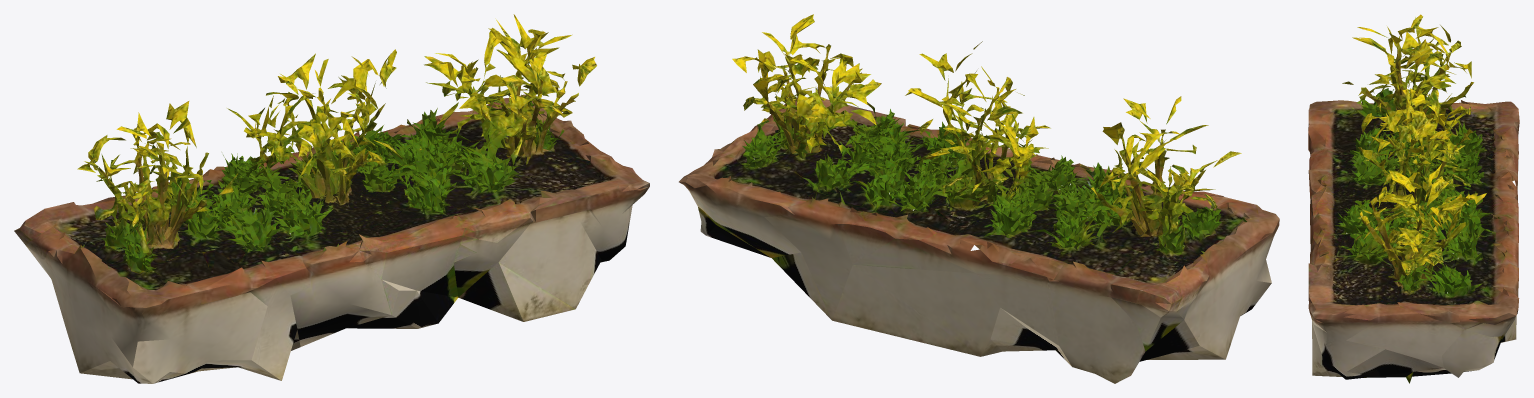
Rendered from w5planter2.glb.
3 views of the same model, side by side, from view 1: azimuth 30°, elevation 25°; view 2: azimuth 150°, elevation 25°; view 3: azimuth 270°, elevation 25° (orthographic). The views are drawn at different scales.
Visible parts, largest first — view 1: output_unwrapped; view 2: output_unwrapped; view 3: output_unwrapped.
Boxes of the visible parts, x1=… form: output_unwrapped: x1=14, y1=14, x2=649, y2=383; output_unwrapped: x1=679, y1=14, x2=1279, y2=383; output_unwrapped: x1=1308, y1=14, x2=1519, y2=383.
Size of the model in its own units: 2 by 0.9601 by 0.8245.
1 material, 1 textured.
